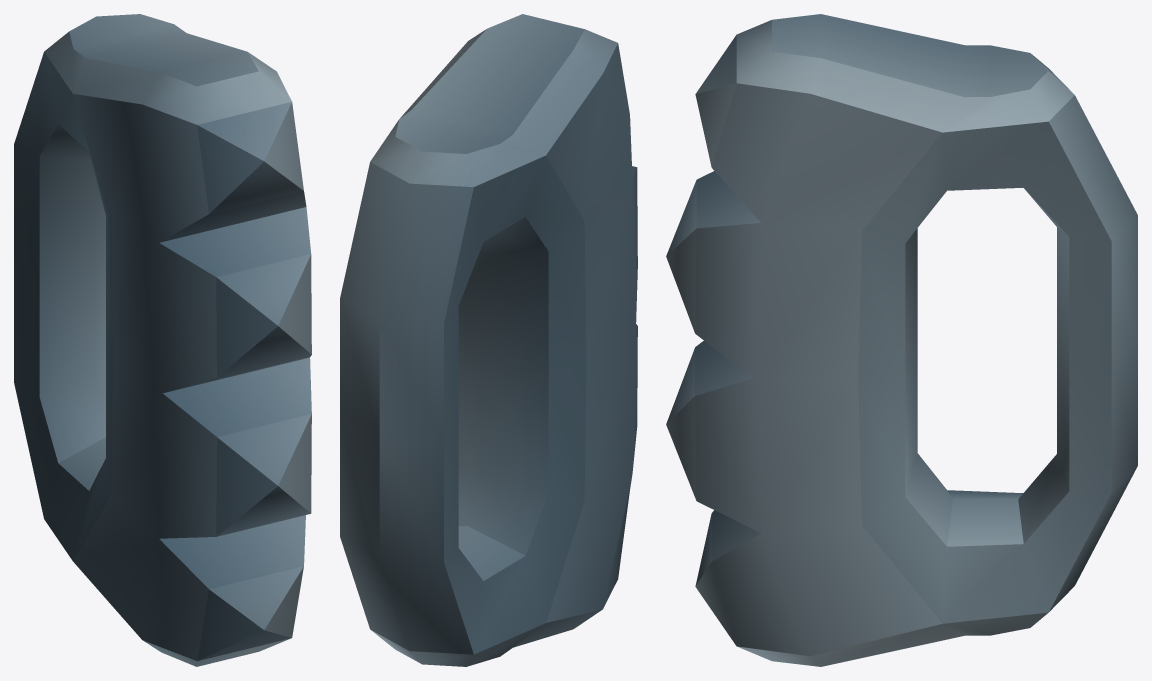
Rendered from fistweapon_A.glb.
3 views of the same model, side by side, from view 1: azimuth 30°, elevation 25°; view 2: azimuth 150°, elevation 25°; view 3: azimuth 270°, elevation 25° (orthographic). The views are drawn at different scales.
Visible parts, largest first — view 1: fistweapon_A; view 2: fistweapon_A; view 3: fistweapon_A.
Part boxes in pixels (x1,y1,x2,y2): fistweapon_A: [14, 14, 311, 666]; fistweapon_A: [340, 14, 637, 666]; fistweapon_A: [666, 14, 1137, 666].
Bounding box in the file's own units: 0.0429 × 0.1617 × 0.1134.
Materials: 1 (1 with a texture image).
